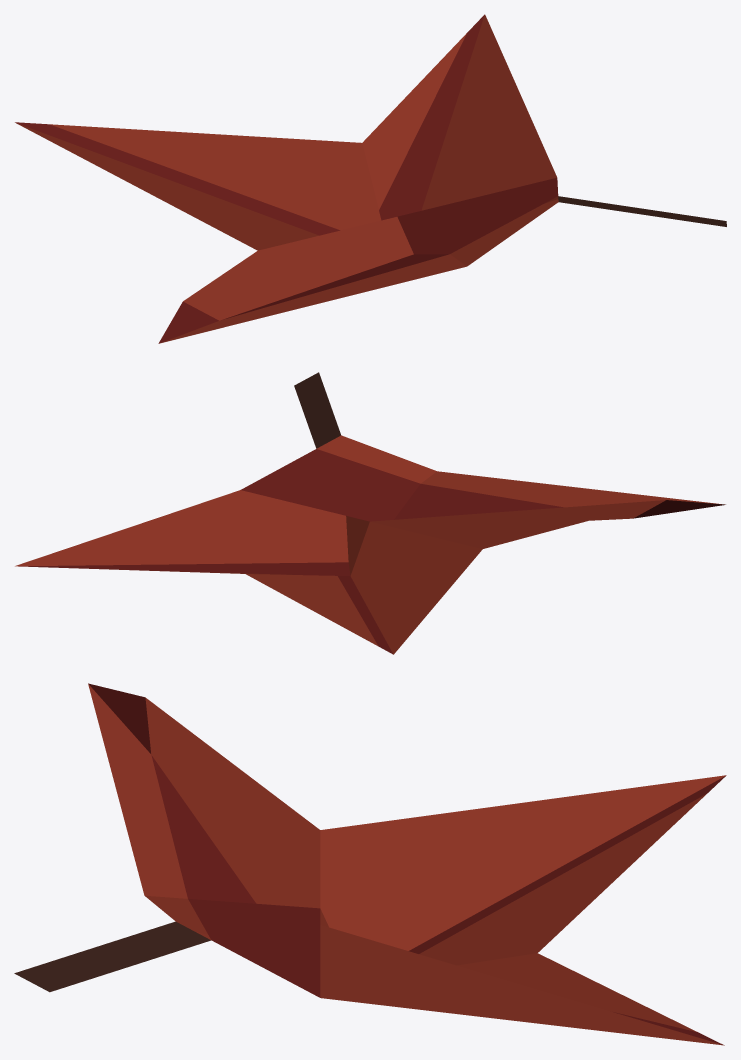
The model's file is FOLHA1.fbx.
The picture shows the model from 3 angles, top to bottom: view 1: azimuth 30°, elevation 25°; view 2: azimuth 150°, elevation 25°; view 3: azimuth 270°, elevation 25°; orthographic projection. The views are drawn at different scales.
Parts seen in each view (by area): view 1: Plane; view 2: Plane; view 3: Plane.
Boxes of the visible parts, box(x1,y1,x2,y2) form: Plane: box(15, 14, 726, 343); Plane: box(15, 372, 725, 654); Plane: box(14, 683, 726, 1045).
Bounding box in the file's own units: 38.21 × 6.09 × 34.01.
